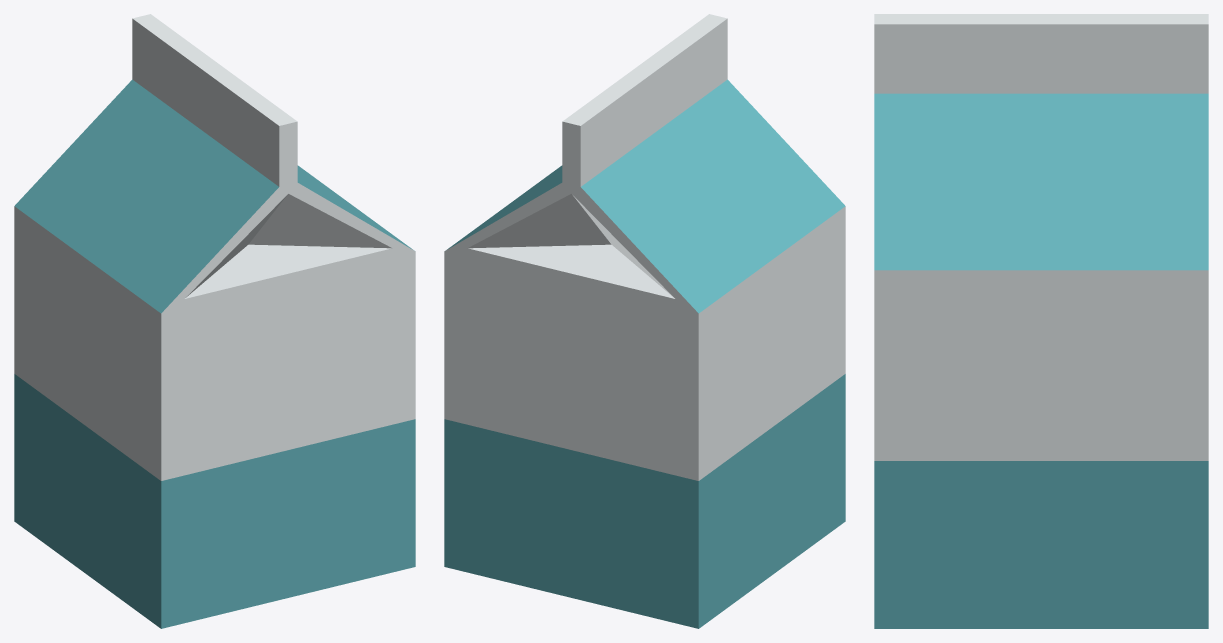
The model's file is 31_prop_milk.FBX.
3 views of the same model, side by side, from view 1: azimuth 30°, elevation 25°; view 2: azimuth 150°, elevation 25°; view 3: azimuth 270°, elevation 25° (orthographic). The views are drawn at different scales.
Visible parts, largest first — view 1: prop_milk; view 2: prop_milk; view 3: prop_milk.
Part boxes in pixels (x1=…): prop_milk: x1=14, y1=14, x2=415, y2=628; prop_milk: x1=444, y1=14, x2=845, y2=628; prop_milk: x1=874, y1=14, x2=1208, y2=628.
Bounding box in the file's own units: 9.89 × 17.61 × 9.89.
